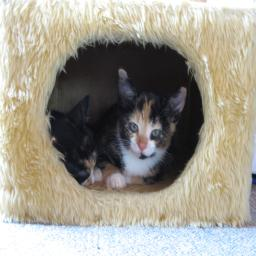catnose: (137, 138, 147, 153), (89, 175, 96, 185)
